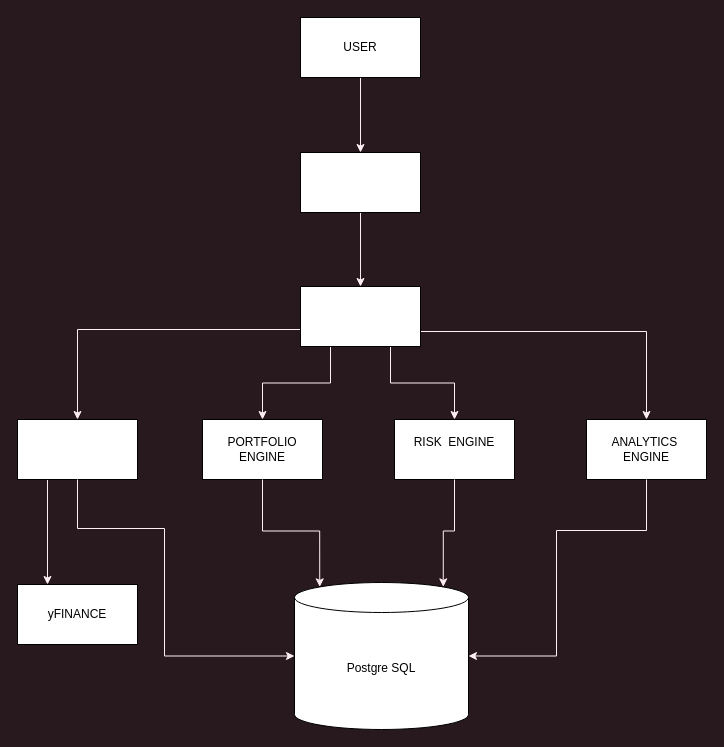
This 724x747 diagram has some shape labels left out. Here are the shapes that lost their labels. From the top down, the centre of each, then its label:
At pixel 360 182: "REACT FRONTEND TAILWIND CSS RECHARTS".
At pixel 360 316: "FAST API BACKEND".
At pixel 77 449: "MARKET DATA SERVICE".
